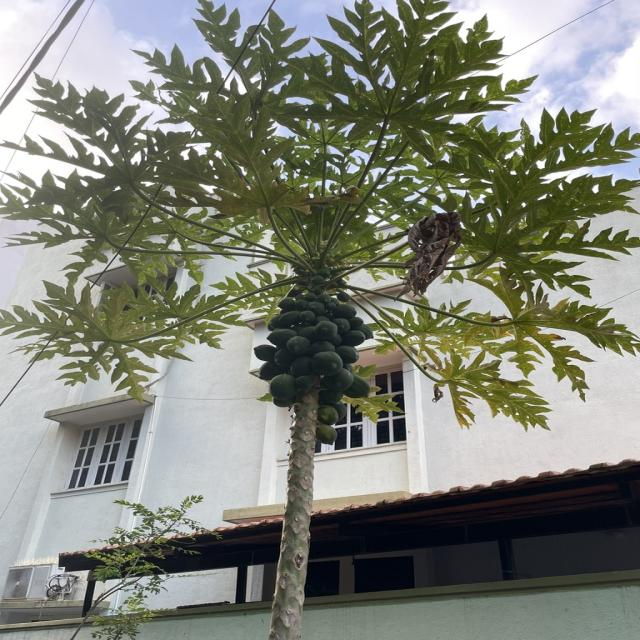Papaya-Tree: (23, 11, 612, 615)
